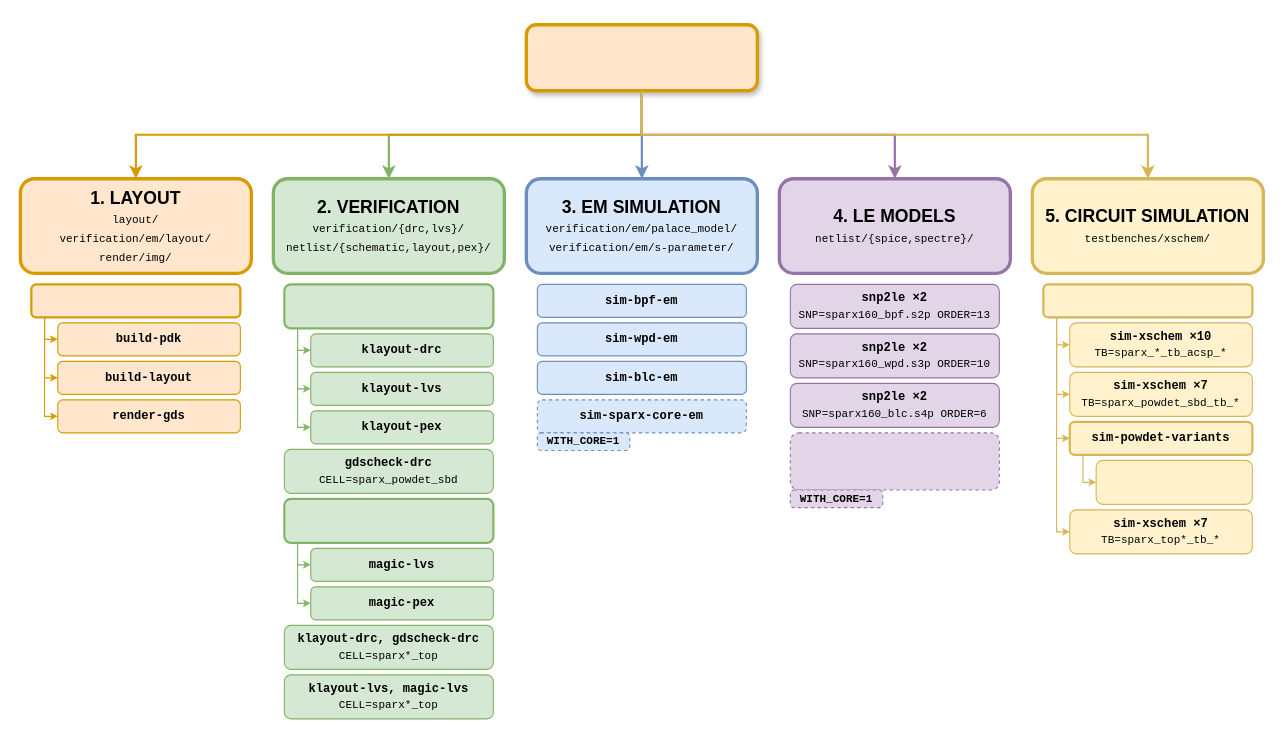
The diagram is 1284 pixels wide and 738 high, and some of its shapes have lost their labels. The shapes that lost their labels are listed below. From the top down, each one's centre as x and y in pixels, then its label:
point (642, 59): make all
point (135, 300): build-top
point (388, 306): klayout-verify CELL=sparx_powdet_sbd
point (1147, 300): sim-all
point (894, 461): snp2le ×2 SNP=sparx160_core.s7p ORDER=24 LE_NOISE=thermal
point (1173, 481): sim-xschem ×7 VARIANT=m16, m1_*pex
point (388, 520): magic-verify CELL=sparx_powdet_sbd
